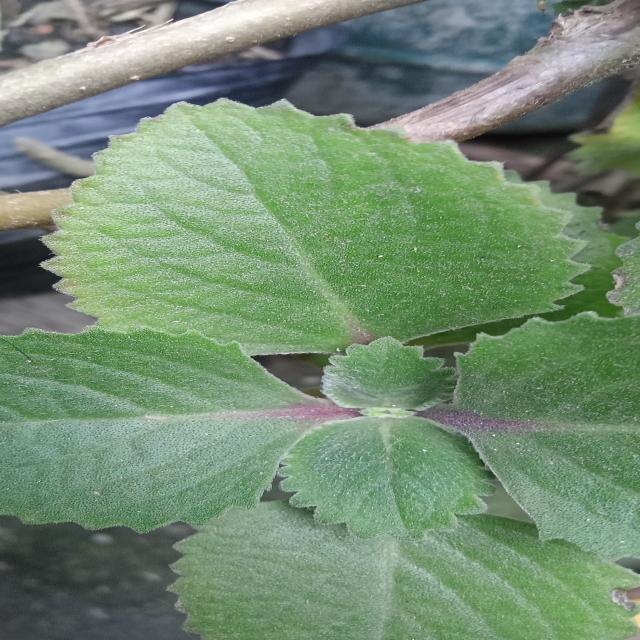Oregano: (29, 86, 626, 500)
